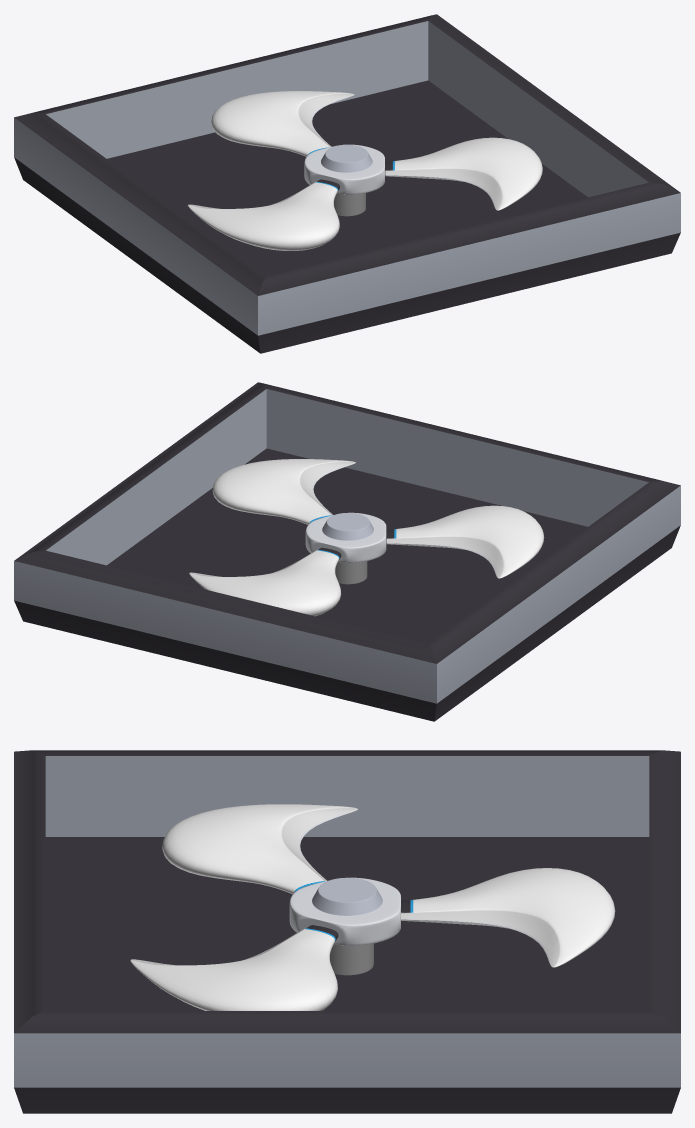
The model's file is Fan_Textured.fbx.
3 renders of one model, top to bottom at view 1: azimuth 30°, elevation 25°; view 2: azimuth 150°, elevation 25°; view 3: azimuth 270°, elevation 25°, orthographic. The views are drawn at different scales.
Visible parts, largest first — view 1: Base1, Blade_3, Blade_2, Blade_1, Hub, Pivot; view 2: Base1, Blade_2, Blade_3, Blade_1, Hub, Pivot; view 3: Base1, Blade_1, Blade_2, Blade_3, Hub, Pivot.
Boxes of the visible parts, x1=… form: Base1: x1=14, y1=14, x2=680, y2=353; Blade_3: x1=385, y1=137, x2=542, y2=210; Blade_2: x1=187, y1=179, x2=339, y2=250; Blade_1: x1=211, y1=91, x2=354, y2=156; Hub: x1=304, y1=144, x2=384, y2=194; Pivot: x1=334, y1=193, x2=365, y2=216; Base1: x1=14, y1=382, x2=680, y2=721; Blade_2: x1=386, y1=505, x2=544, y2=578; Blade_3: x1=212, y1=459, x2=355, y2=524; Blade_1: x1=189, y1=547, x2=341, y2=616; Hub: x1=305, y1=512, x2=386, y2=562; Pivot: x1=335, y1=561, x2=367, y2=584; Base1: x1=14, y1=750, x2=680, y2=1113; Blade_1: x1=401, y1=868, x2=615, y2=967; Blade_2: x1=162, y1=804, x2=358, y2=894; Blade_3: x1=130, y1=925, x2=338, y2=1010; Hub: x1=289, y1=877, x2=400, y2=945; Pivot: x1=330, y1=943, x2=373, y2=975.
Size of the model in its own units: 3.32 by 0.5115 by 3.32.
4 materials, 3 textured.
